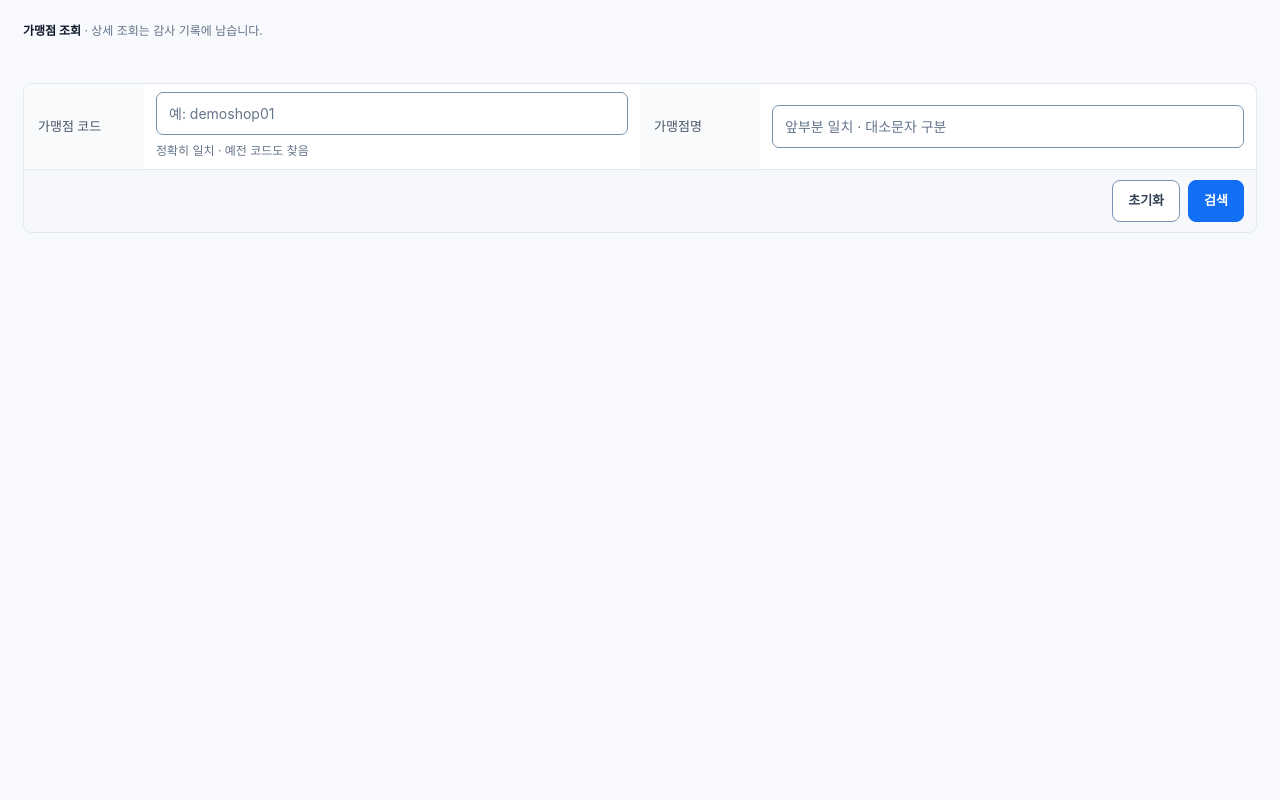
MERCHANT-IA-001 B4 — 가맹점 상세 탭 › tablist "가맹점 상세 보기": 탭 6개(개요 선택), tab ↔ tabpanel 연결, 고른 패널만 보이고 나머지는 hidden(DOM에는 남음)
The image size is (1280, 800).
Click the button "검색": (1216, 201) [1188,180,1244,222]
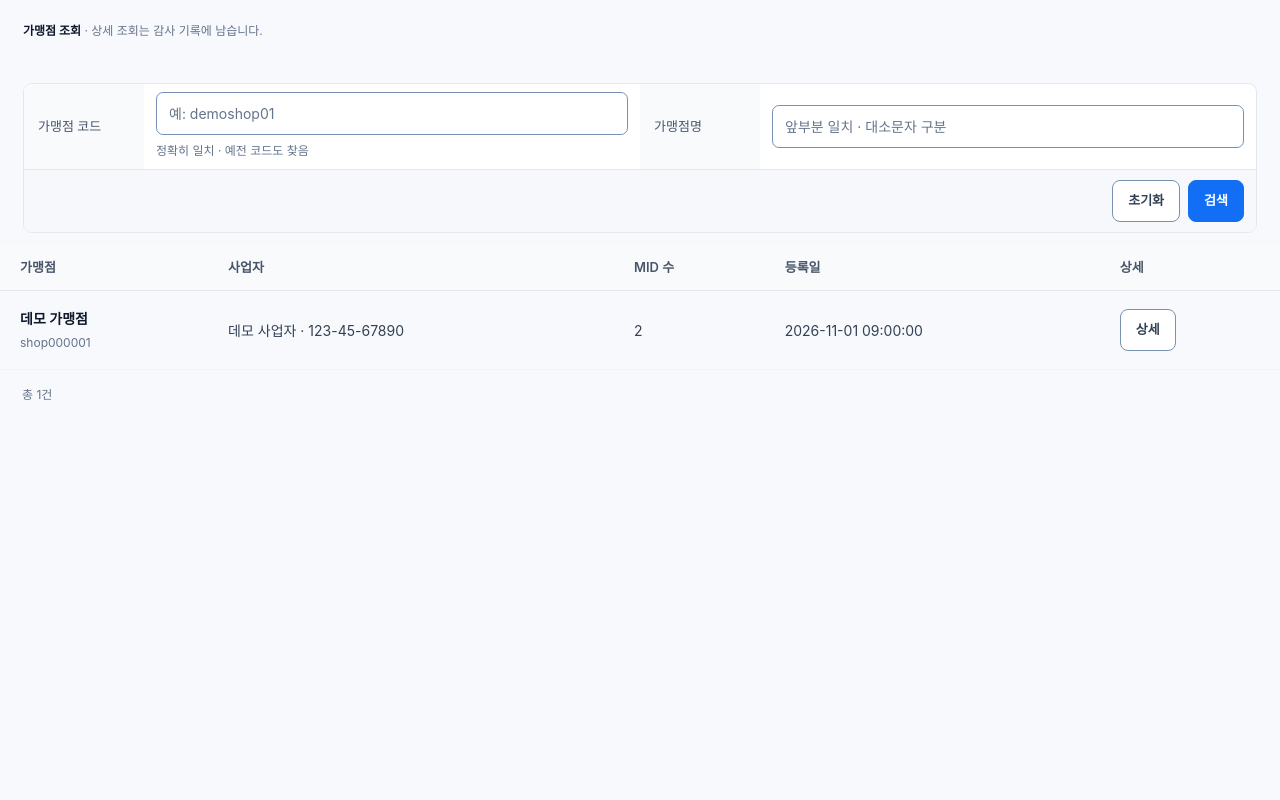
Click the button "상세": (1148, 330) [1120,309,1176,351]
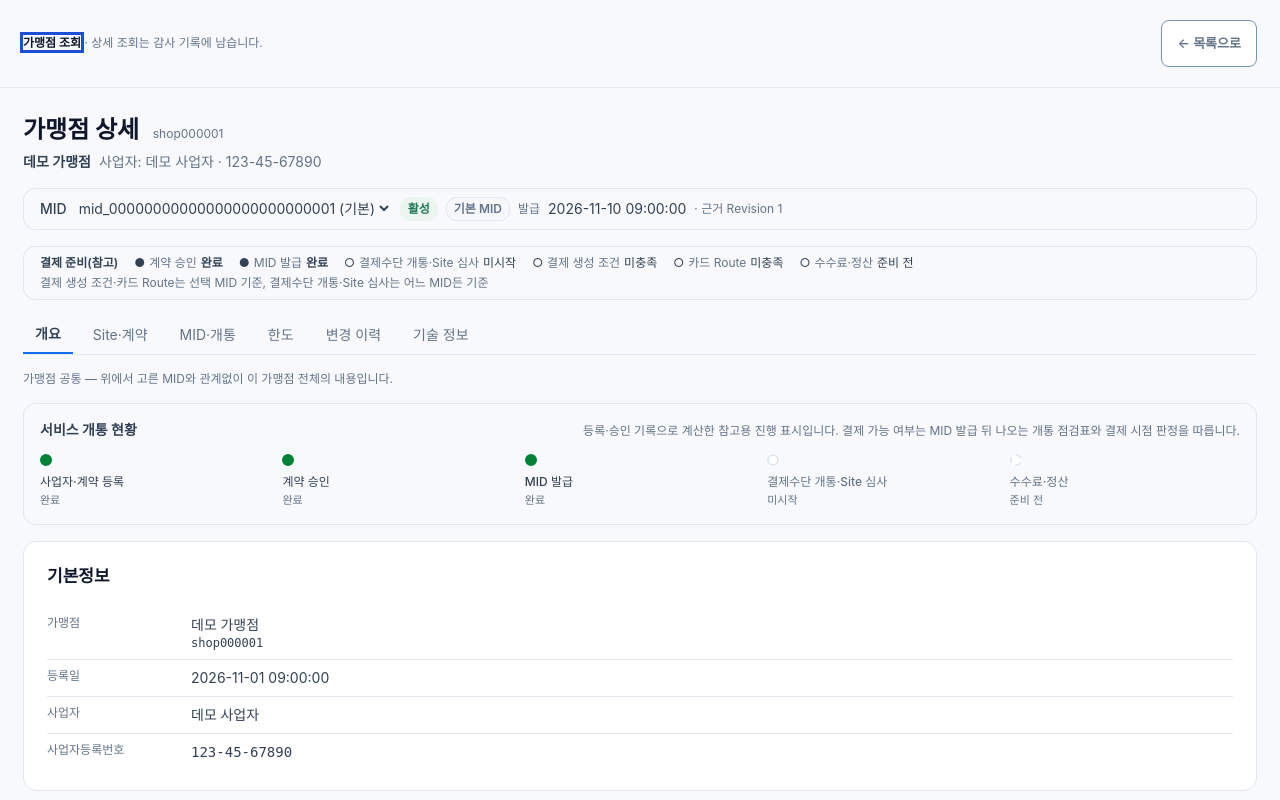
Result: the element named "가맹점 상세 보기" is shown at [23,316,1257,355]
